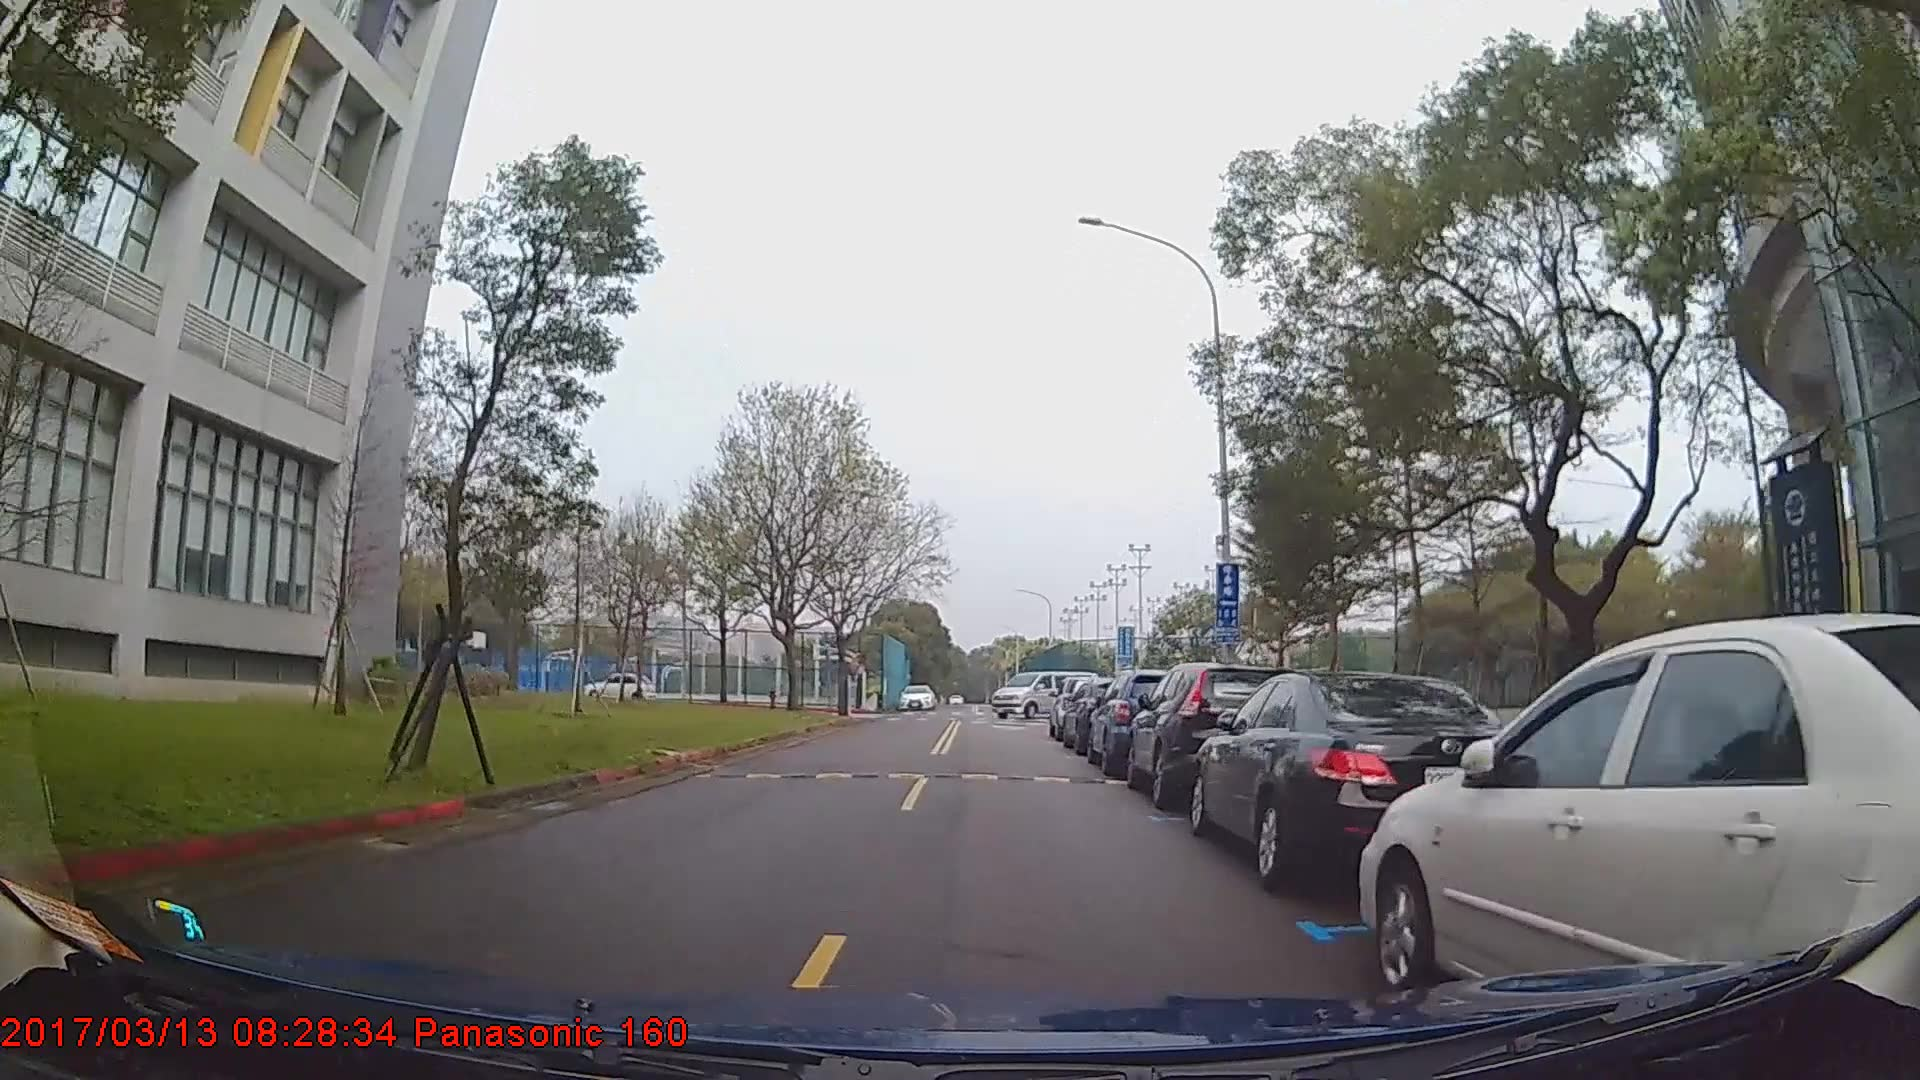vehicle: (1357, 611, 1920, 1029), (1191, 670, 1538, 891), (1124, 661, 1300, 807), (1087, 669, 1188, 775), (992, 669, 1098, 719), (582, 670, 655, 700), (897, 682, 938, 709)
